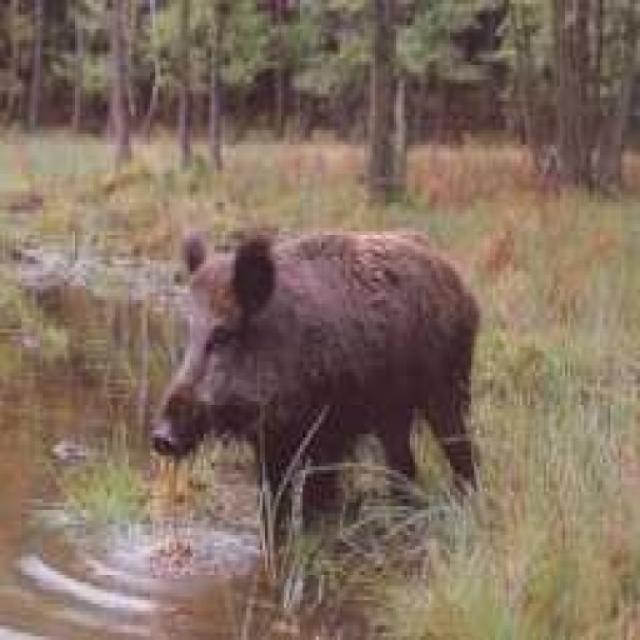pig: (134, 193, 528, 518)
